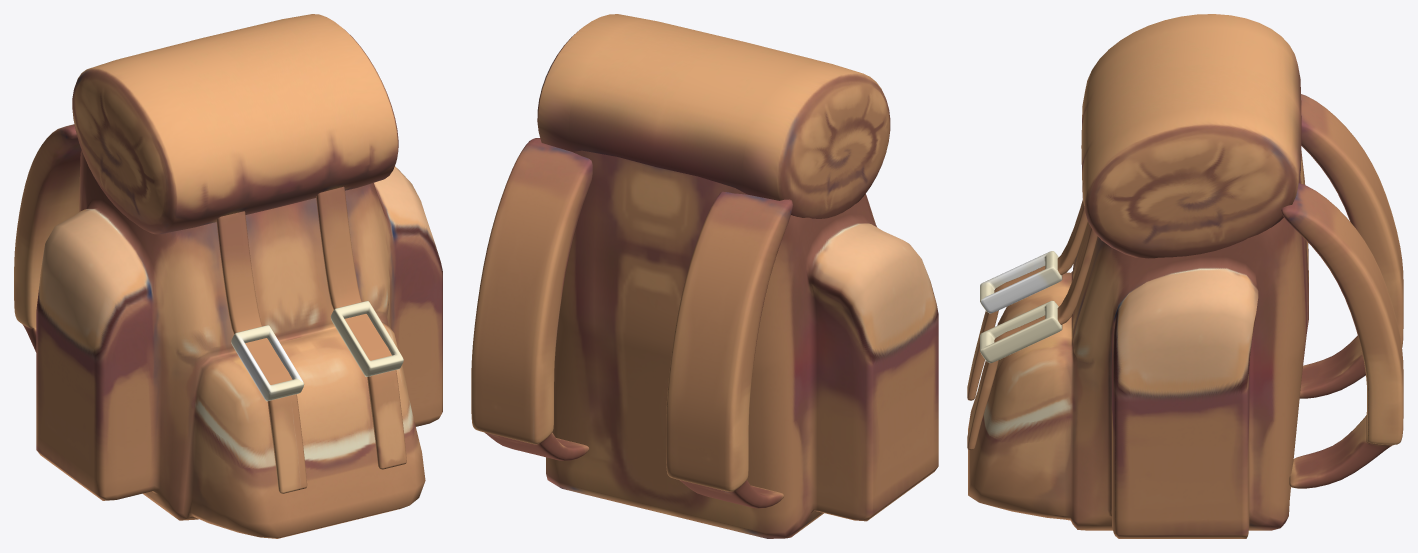
The model's file is BackPack.fbx.
3 renders of one model, left to right at view 1: azimuth 30°, elevation 25°; view 2: azimuth 150°, elevation 25°; view 3: azimuth 270°, elevation 25°, orthographic. The views are drawn at different scales.
Visible parts, largest first — view 1: BackPack; view 2: BackPack; view 3: BackPack.
Boxes of the visible parts, x1,y1,x2,y2 form: BackPack: [14, 14, 442, 538]; BackPack: [471, 14, 938, 538]; BackPack: [967, 14, 1403, 538].
Size of the model in its own units: 69.44 by 77.55 by 74.47.
Materials: 1 (1 with a texture image).
